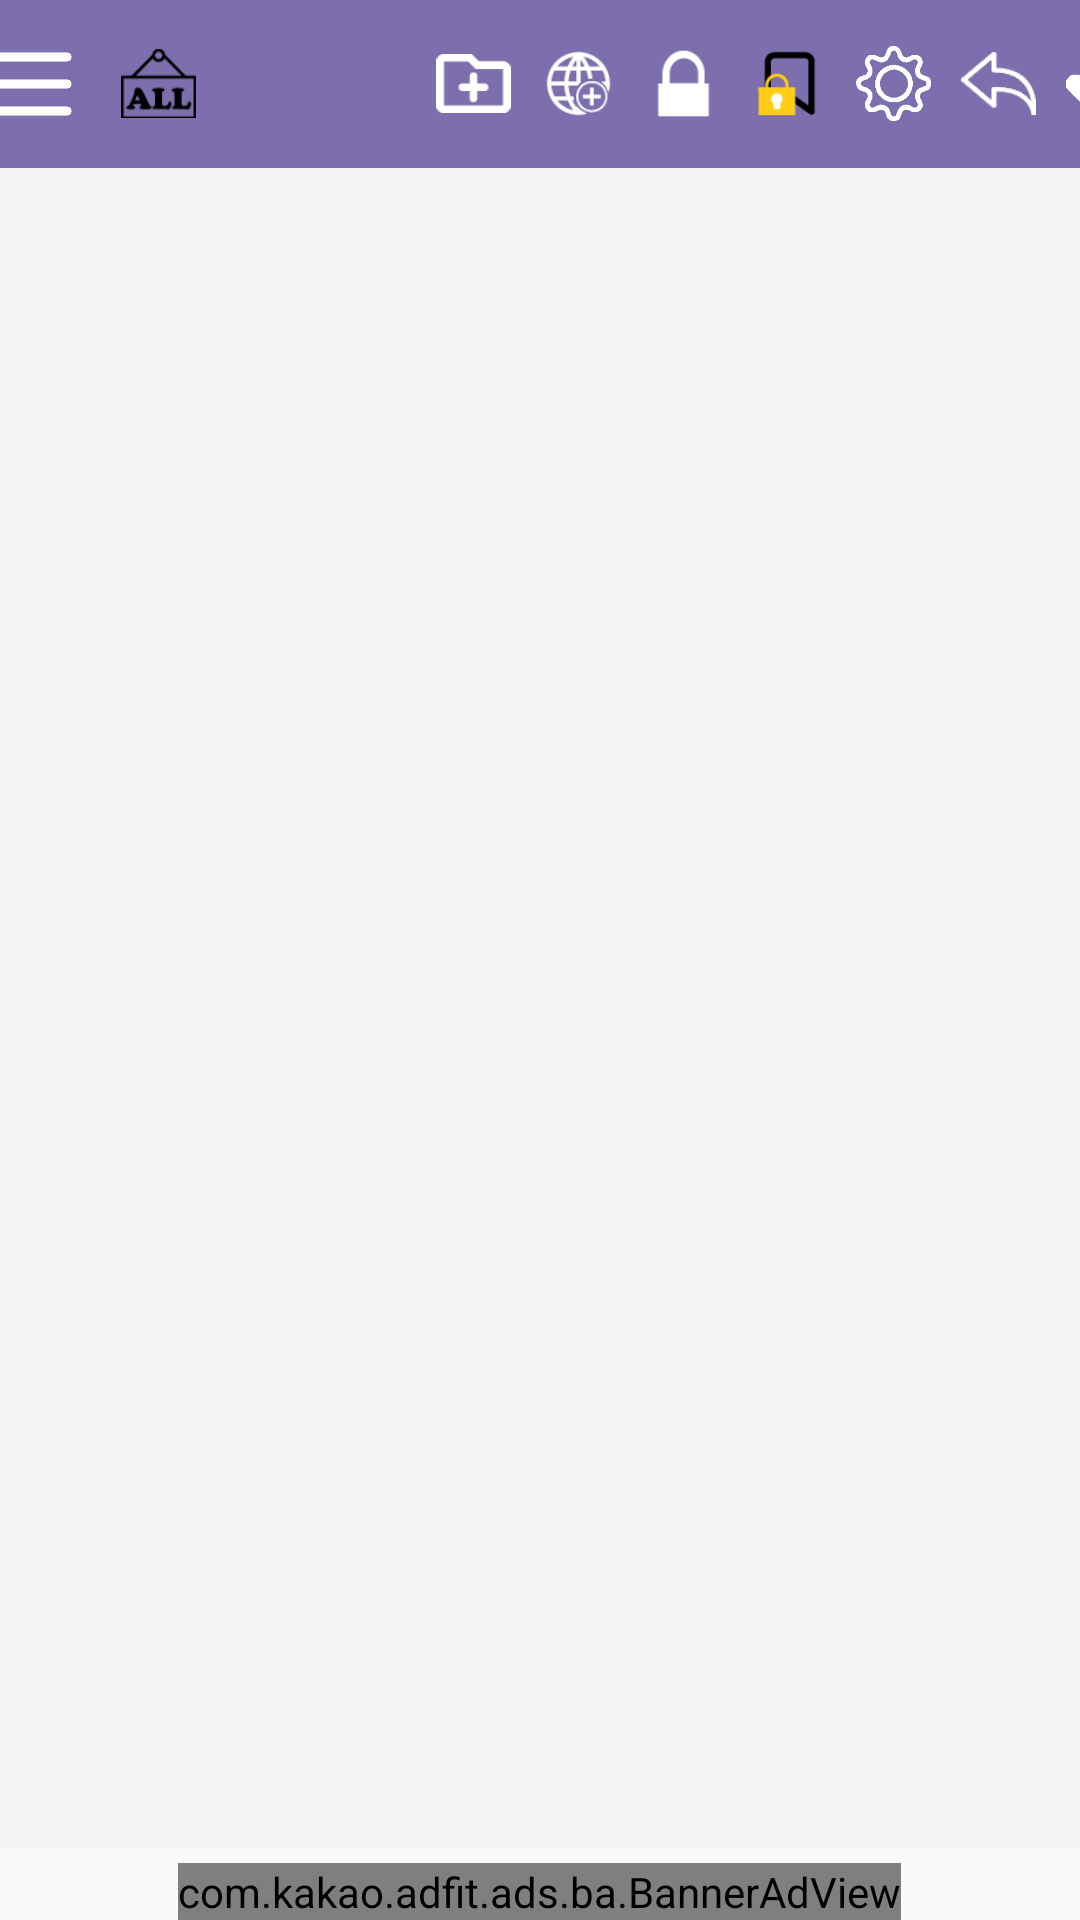

Where icons sit on this 1080w x 1920h app screen, as (x1, y1, x2, y2):
add folder: (436, 54, 511, 113)
add lock: (758, 51, 815, 116)
add web: (547, 52, 610, 115)
all open: (121, 49, 196, 118)
back: (961, 52, 1036, 115)
lock: (658, 50, 709, 117)
